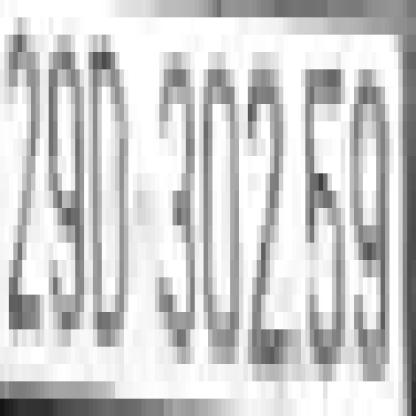0: (199, 69, 239, 347)
2: (243, 52, 288, 364), (4, 35, 40, 312)
3: (155, 52, 199, 347)
5: (301, 35, 341, 364)
9: (345, 87, 390, 364), (44, 35, 84, 312)
D: (93, 35, 128, 329)
